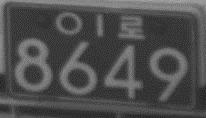0: (54, 10, 82, 36)
1: (88, 12, 112, 38)
4: (103, 43, 143, 99)
6: (58, 41, 98, 96)
8: (12, 37, 53, 93)
9: (149, 46, 189, 101)
로: (117, 13, 146, 40)
